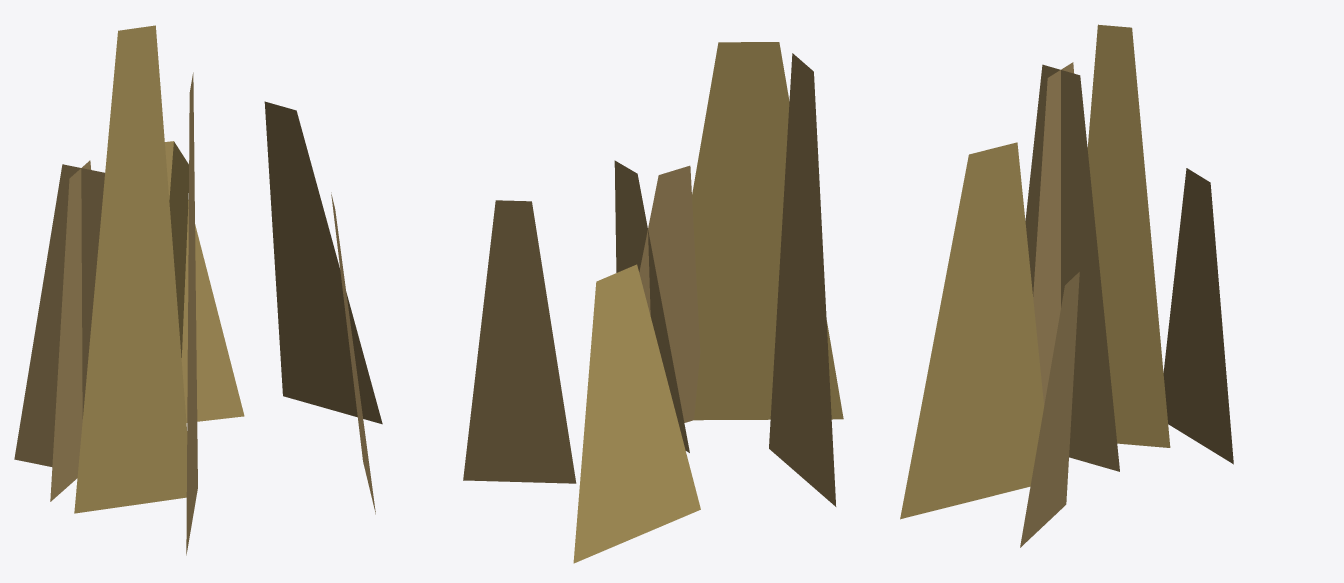
The model's file is cao.yangmao@subadult__autumn.glb.
The picture shows the model from 3 angles, left to right: view 1: azimuth 30°, elevation 25°; view 2: azimuth 150°, elevation 25°; view 3: azimuth 270°, elevation 25°; orthographic projection. The views are drawn at different scales.
Visible parts, largest first — view 1: cao.yangmao@subadult__autumn; view 2: cao.yangmao@subadult__autumn; view 3: cao.yangmao@subadult__autumn.
Part boxes in pixels (left/top/right/bottom): cao.yangmao@subadult__autumn: left=14, top=25, right=382, bottom=555; cao.yangmao@subadult__autumn: left=463, top=42, right=843, bottom=563; cao.yangmao@subadult__autumn: left=900, top=24, right=1233, bottom=547.
Bounding box in the file's own units: 0.2395 × 0.3124 × 0.2887.
